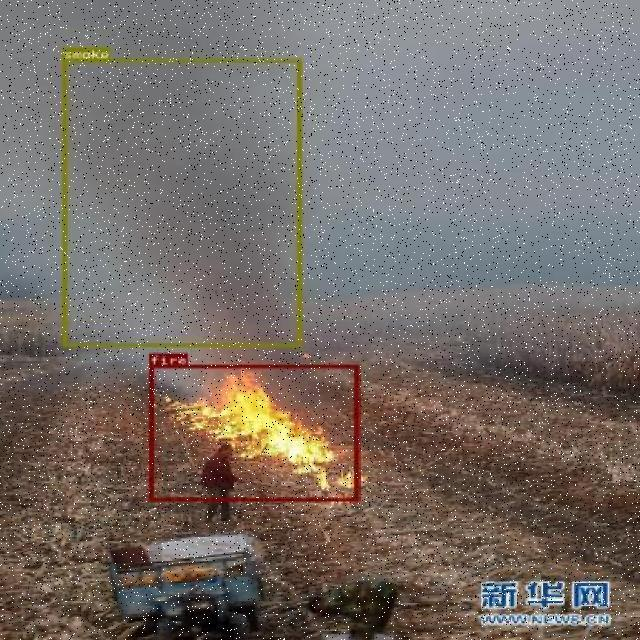Smoke: (0, 58, 237, 346)
